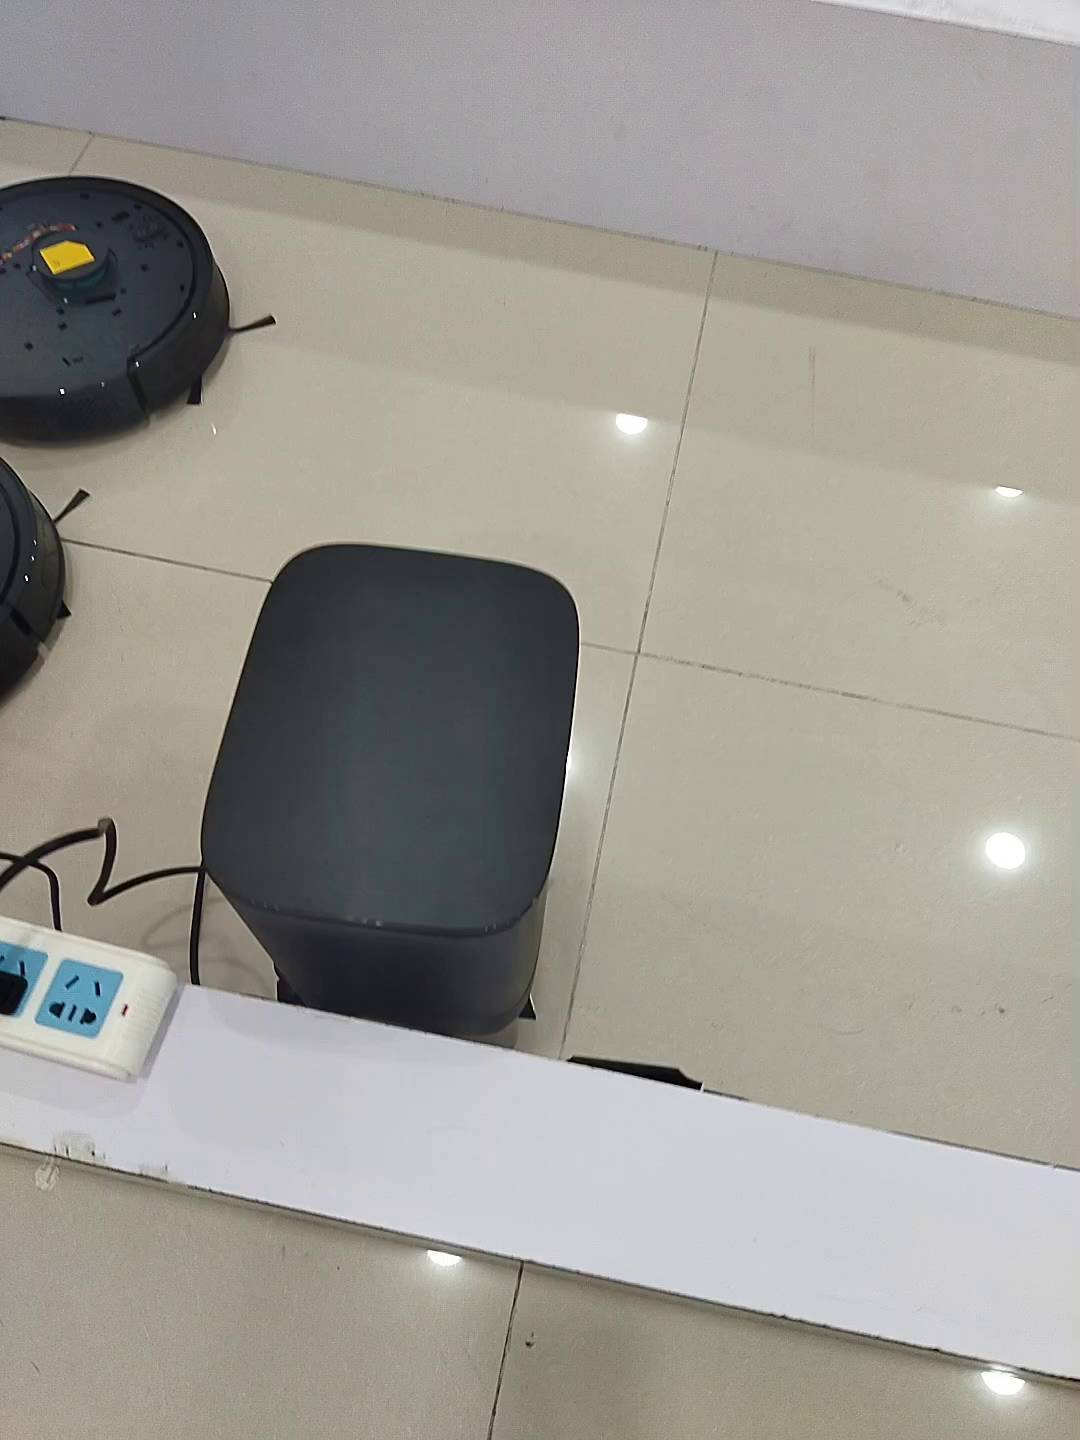dust collecting barrel: (201, 541, 581, 1031)
